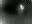person: (19, 4, 26, 16)
